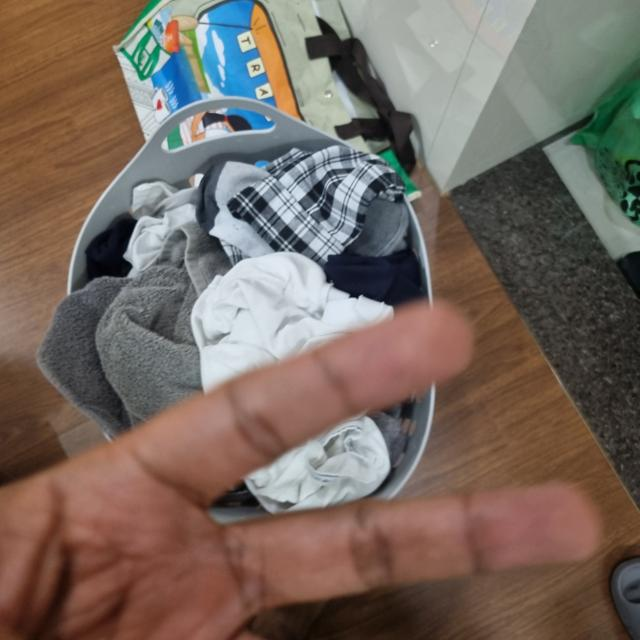Scissors: (0, 306, 604, 638)
